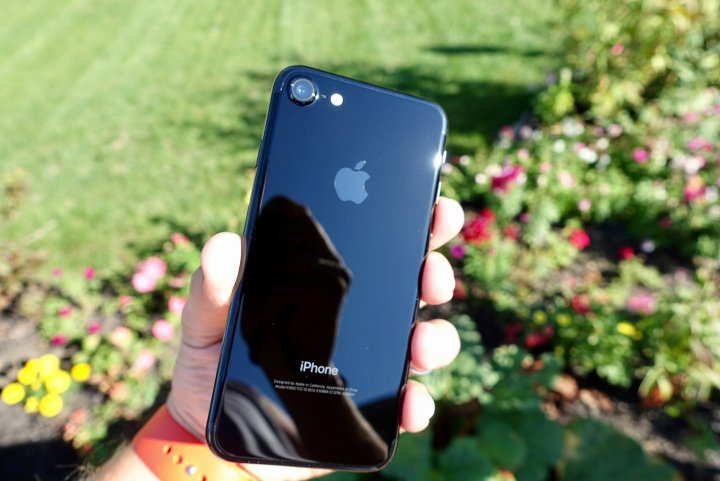apple: (326, 153, 385, 213)
